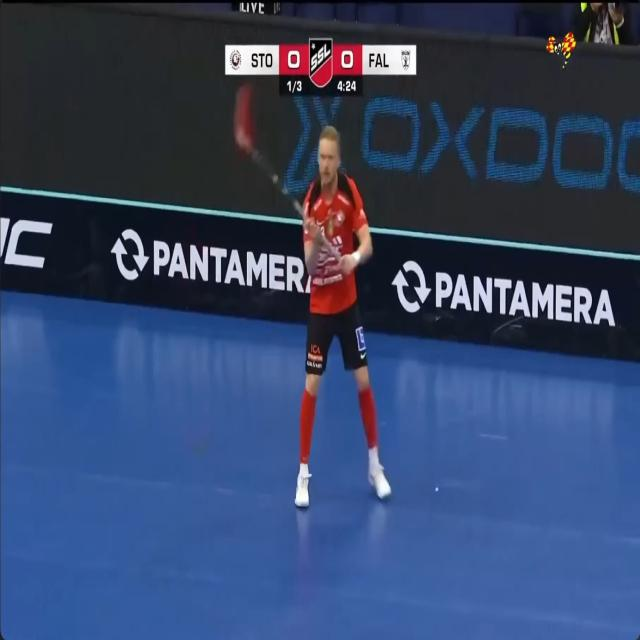player: (295, 125, 390, 507)
stick: (234, 85, 306, 222)
